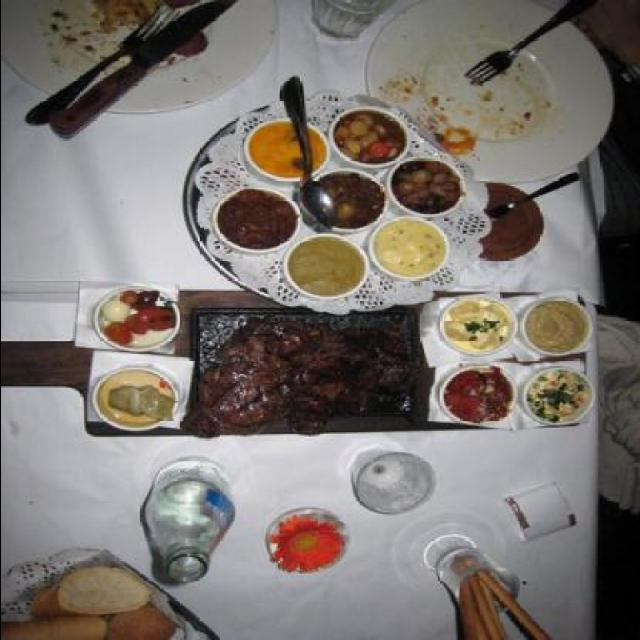Steak: (191, 324, 407, 439)
